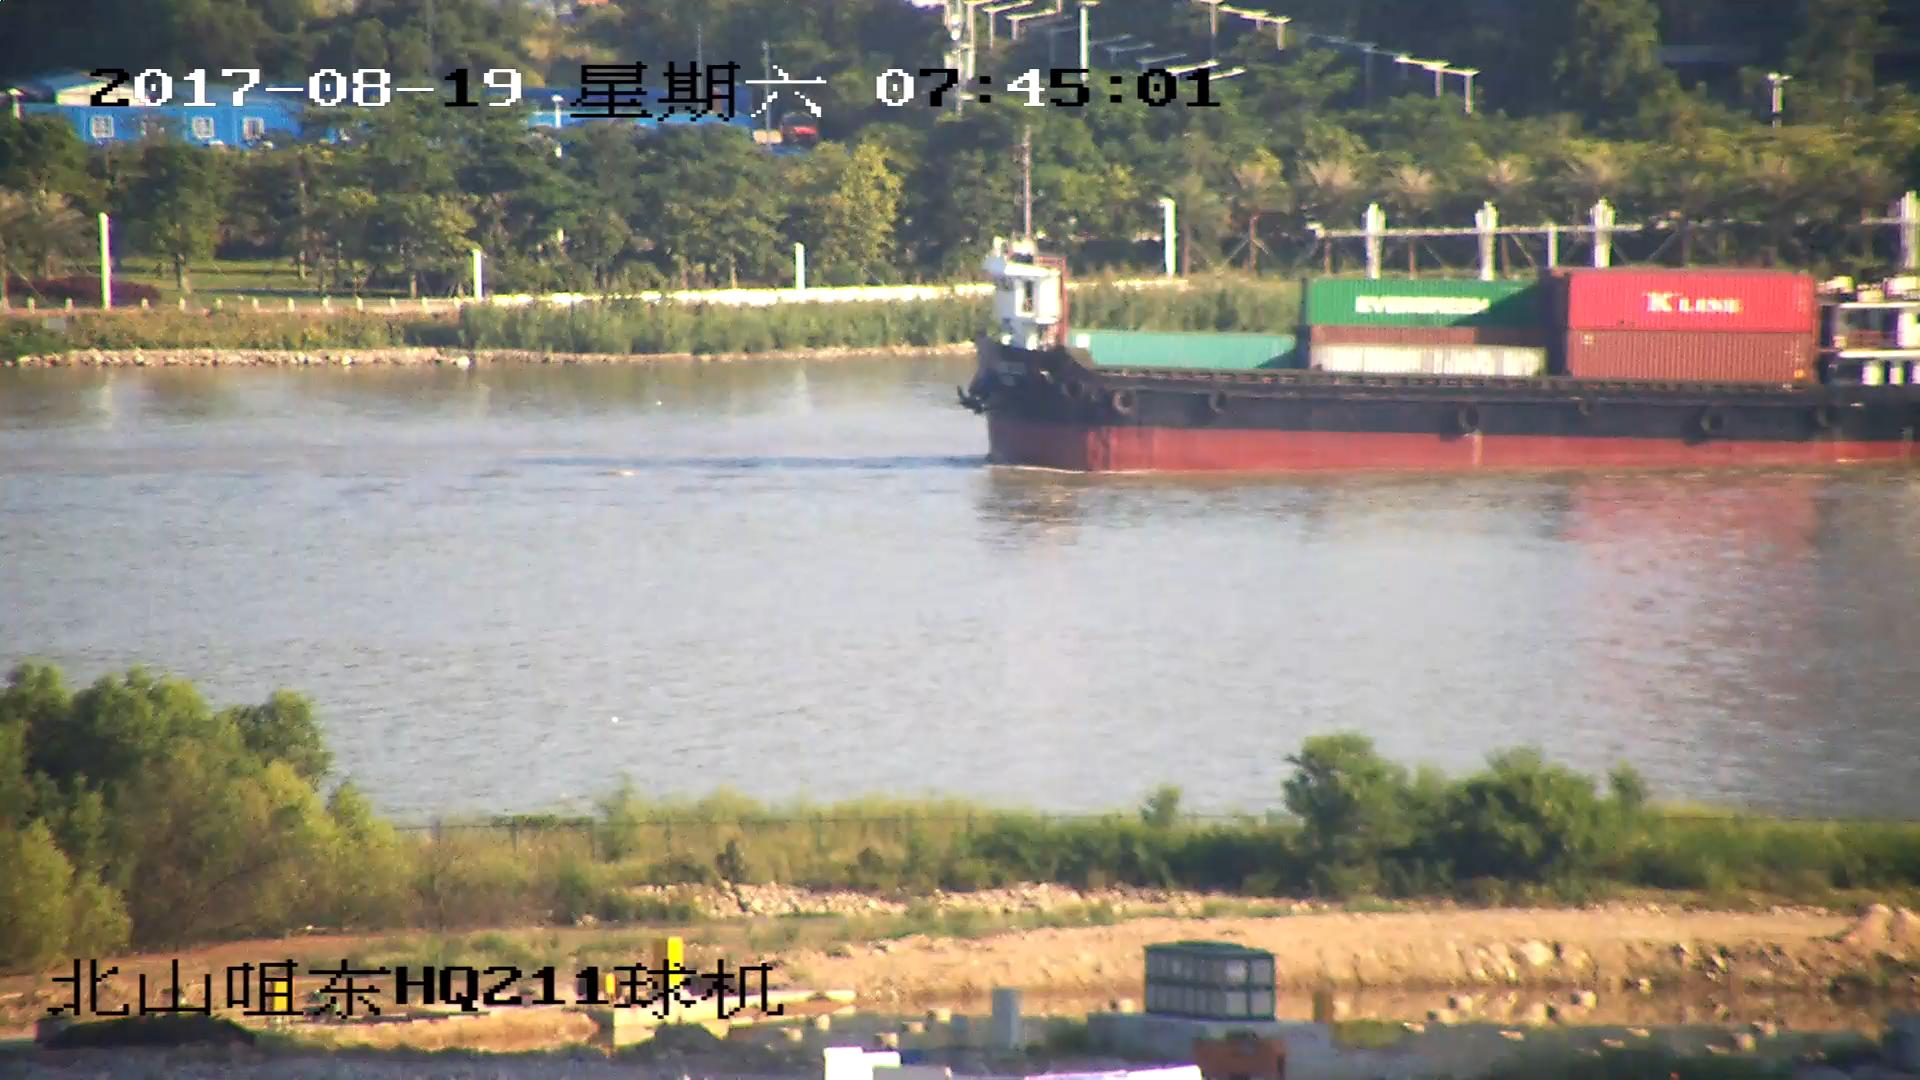container ship: (970, 154, 1920, 481)
